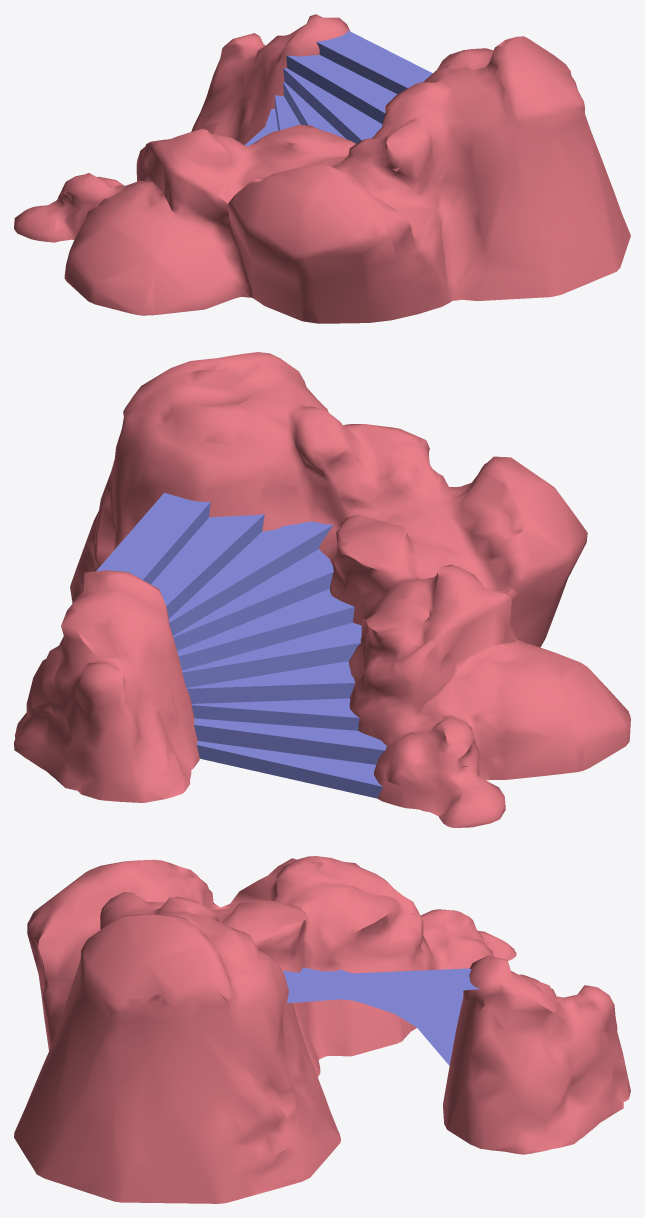
The model's file is GeoTerrainStairs01.fbx.
3 renders of one model, top to bottom at view 1: azimuth 30°, elevation 25°; view 2: azimuth 150°, elevation 25°; view 3: azimuth 270°, elevation 25°, orthographic. The views are drawn at different scales.
Visible parts, largest first — view 1: GeoTerrainStairs01_LOD0; view 2: GeoTerrainStairs01_LOD0; view 3: GeoTerrainStairs01_LOD0.
Part boxes in pixels (left/top/right/bottom): GeoTerrainStairs01_LOD0: left=14, top=14, right=630, bottom=323; GeoTerrainStairs01_LOD0: left=14, top=352, right=630, bottom=827; GeoTerrainStairs01_LOD0: left=14, top=856, right=630, bottom=1203.
Size of what is drawn, in the model's own units: 765 by 299 by 734.
